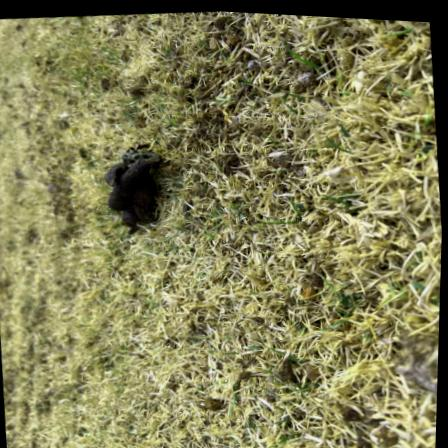dog-poop: (90, 134, 172, 238)
